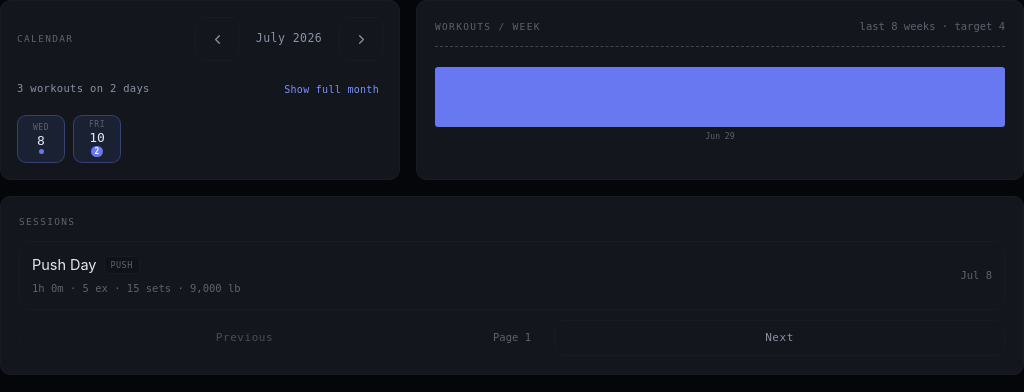
Test case: HistoryTab › replaces rows while paging forward and backward with bounded offsets
Expected: the text "Page 1" is shown, [493,331,531,343]
Expected: the button "Previous" is disabled, [19,320,470,356]
Click the button "Next": (780, 338) [554,320,1005,356]
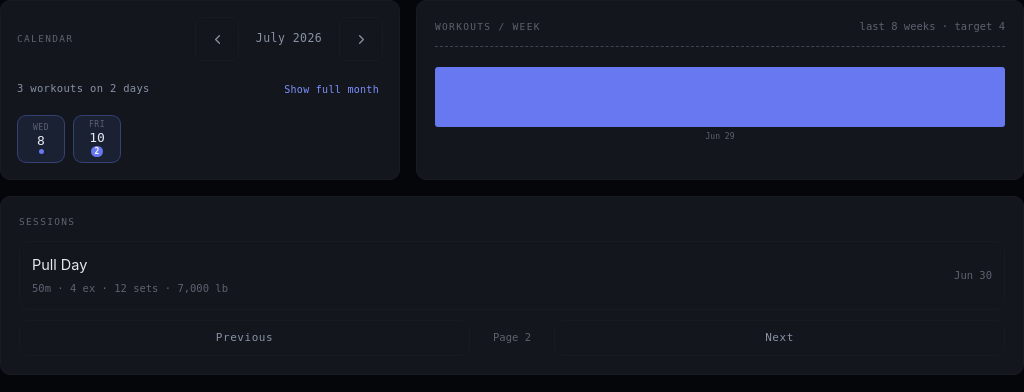
Expected: the text "Page 2" is shown, [493,331,531,343]
Expected: the text "Pull Day" is shown, [32,254,87,276]
Expected: the button "Push Day" is gone
Click the button "Next": (780, 338) [554,320,1005,356]
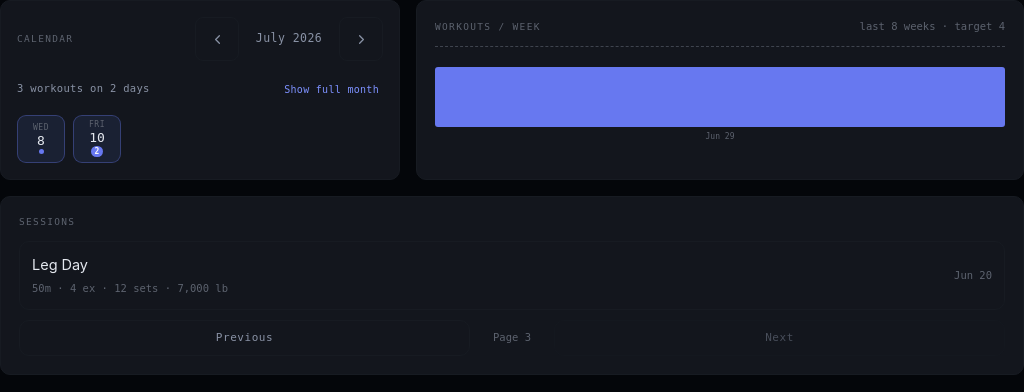
Expected: the text "Leg Day" is shown, [32,254,88,276]
Expected: the button "Pull Day" is gone
Expected: the button "Next" is disabled, [554,320,1005,356]
Click the button "Previous": (244, 338) [19,320,470,356]
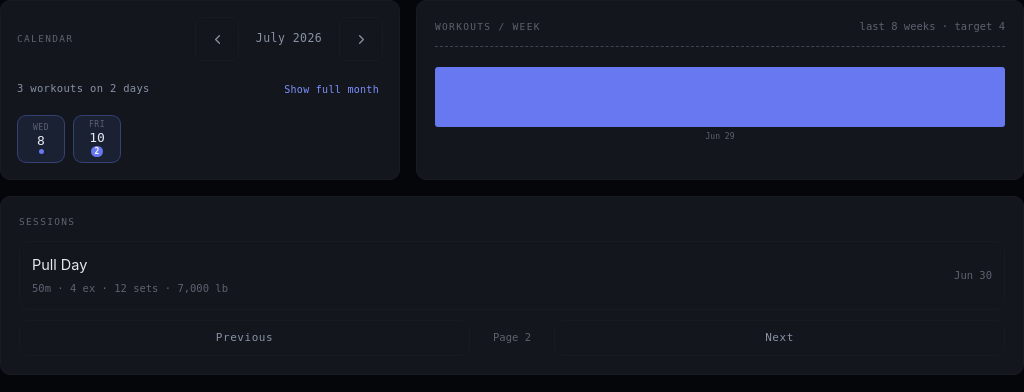
Expected: the text "Pull Day" is shown, [32,254,87,276]
Expected: the button "Leg Day" is gone
Click the button "Previous": (244, 338) [19,320,470,356]
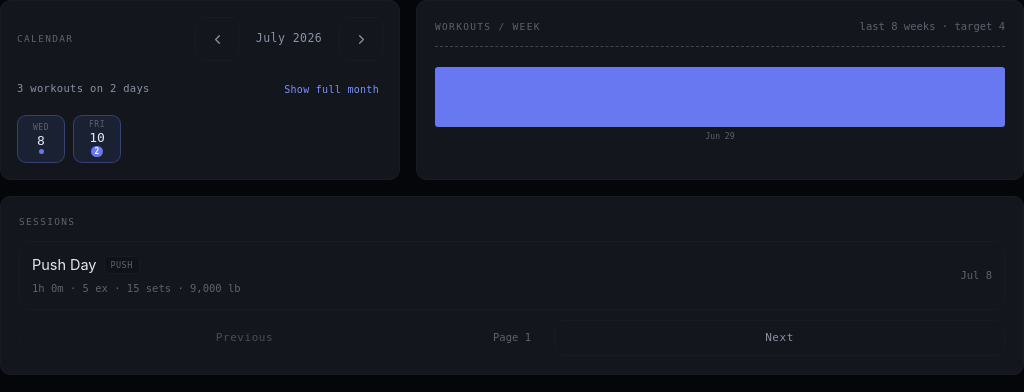
Expected: the text "Push Day" is shown, [32,254,96,276]
Expected: the button "Pull Day" is gone
Expected: the button "Previous" is disabled, [19,320,470,356]
